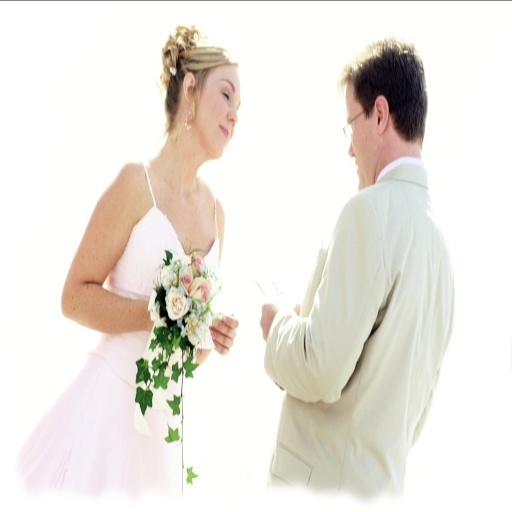hand: (208, 312, 241, 361), (256, 302, 279, 338)
